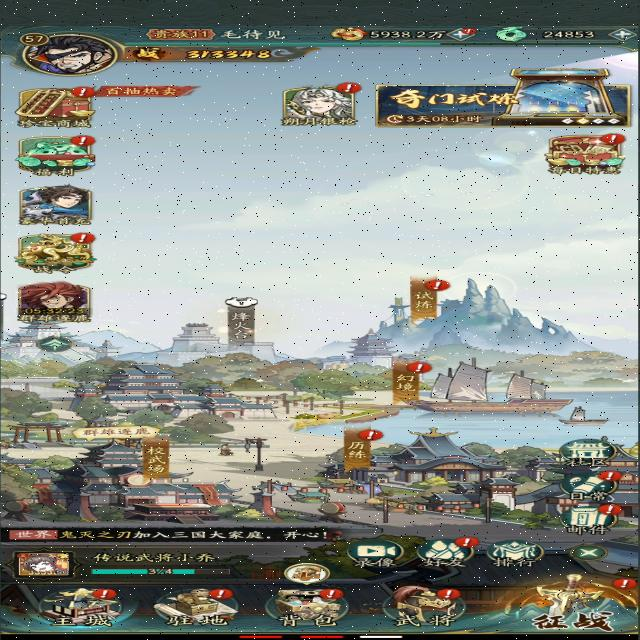hint-reddot: (352, 426, 393, 444), (590, 466, 626, 484), (453, 534, 488, 552), (203, 586, 238, 602), (421, 276, 455, 292), (330, 80, 362, 96), (68, 86, 104, 100), (314, 589, 350, 603), (68, 232, 100, 247), (90, 587, 121, 602), (597, 501, 627, 516), (434, 586, 464, 600), (600, 132, 627, 147), (66, 134, 96, 147), (614, 576, 640, 590), (456, 27, 484, 37)
navigation-DailyDiscount: (535, 131, 630, 179)
navigation-bag: (261, 583, 358, 629)
navigation-community: (548, 438, 618, 468)
navigation-fenghuotai-off: (221, 293, 263, 351)
navigation-fight: (493, 574, 640, 637)
navigation-friends: (410, 534, 479, 571)
navigation-hero: (367, 582, 475, 632)
navigation-huanjing-on: (382, 352, 432, 408)
navigation-jiaowuchang-on: (138, 430, 175, 482)
navigation-lilian-on: (339, 424, 378, 472)
navigation-mail: (553, 503, 621, 537)
navigation-main: (14, 584, 140, 634)
navigation-rank: (484, 536, 552, 572)
navigation-role: (19, 28, 124, 82)
navigation-shilian-on: (401, 270, 451, 322)
navigation-station-on: (148, 584, 251, 632)
navigation-treasureMall: (13, 84, 99, 130)
navigation-welfare: (15, 134, 98, 177)
operation-close: (567, 544, 609, 562)
